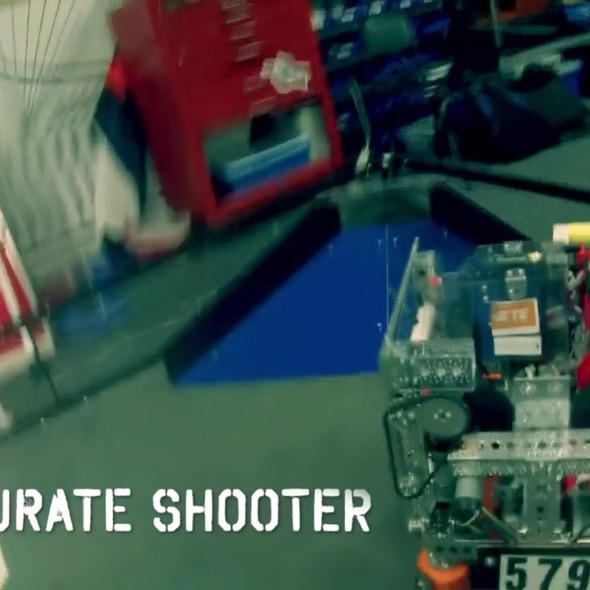robot: (374, 217, 590, 590)
